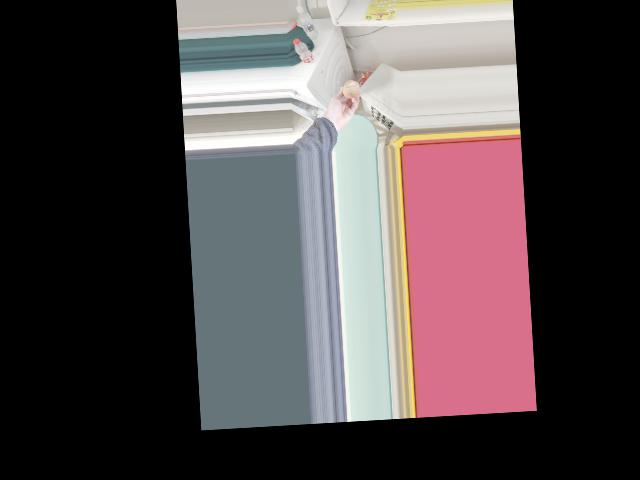sweet_potato: (342, 80, 358, 101)
